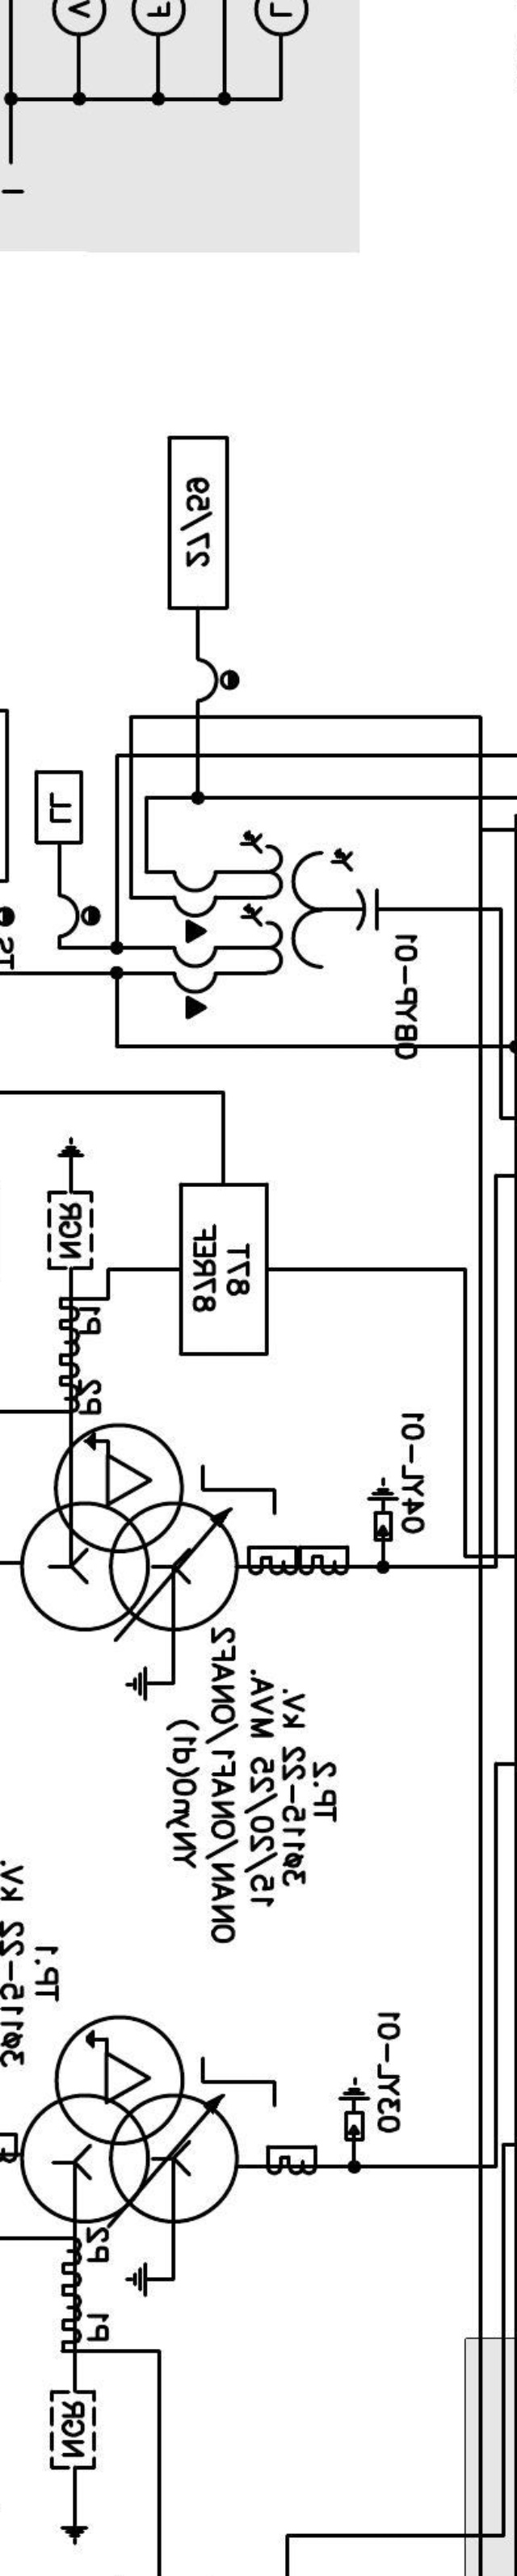11522_tx_ynyn0d1: (18, 1421, 240, 1633), (18, 2014, 240, 2224)
115_cvt_3p: (171, 830, 379, 1022)
115_la: (336, 2077, 371, 2142), (366, 1477, 400, 1543)
LL: (33, 769, 85, 846)
NGR_future: (49, 2389, 97, 2546), (46, 1135, 94, 1272)
